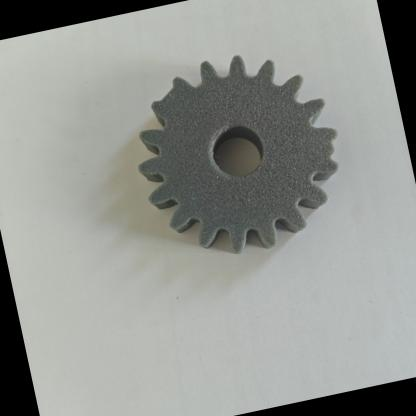defect: (126, 52, 219, 146), (287, 112, 363, 192)
gear: (98, 16, 380, 288)
